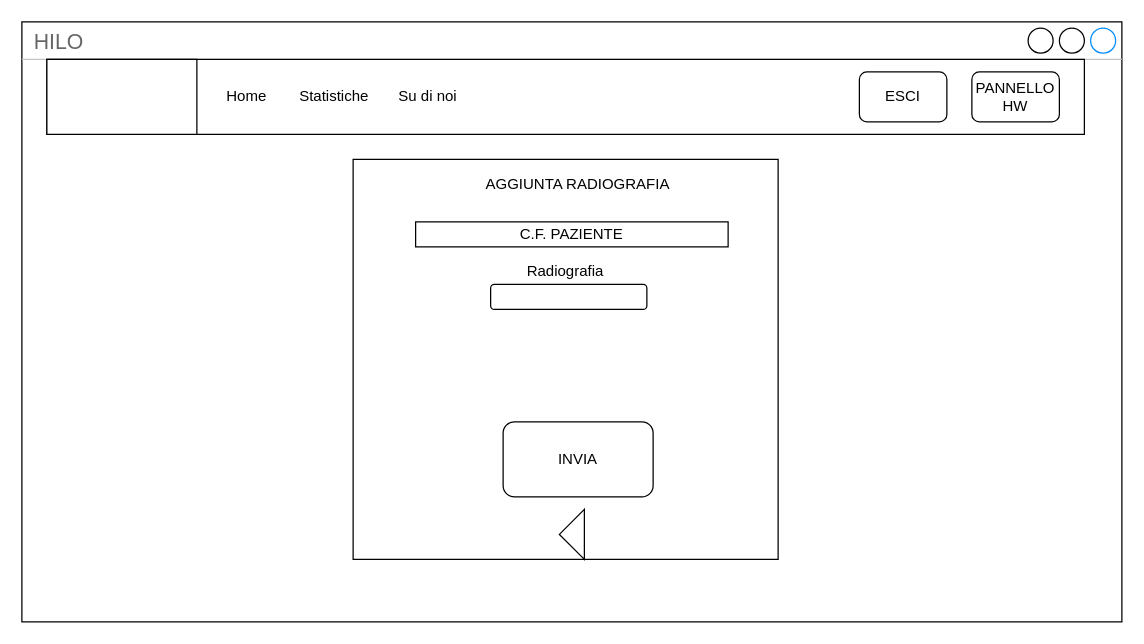
This 1144x644 diagram has some shape labels left out. Each missing label, with the centre of its shape:
"LOGO" goes at point 121,96.
"Sfoglia..." goes at point 568,296.
